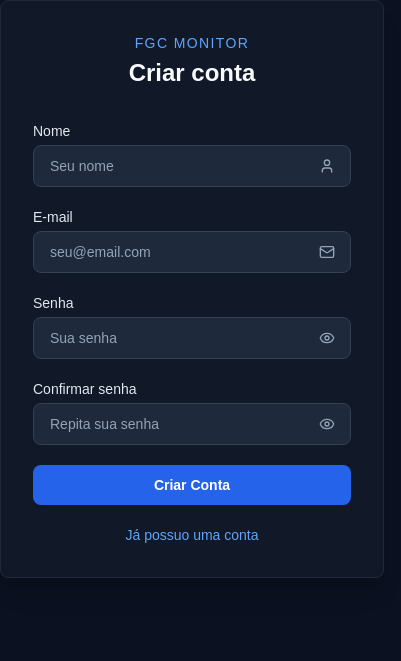
Test: REgister › retorna uma mensagem genérica quando não existe mensagem retornada pela API
The width and height of the screenshot is (401, 661).
Type "Fulano da Silva" into the field labelled "Nome" at (192, 166), box [33,145,351,187]
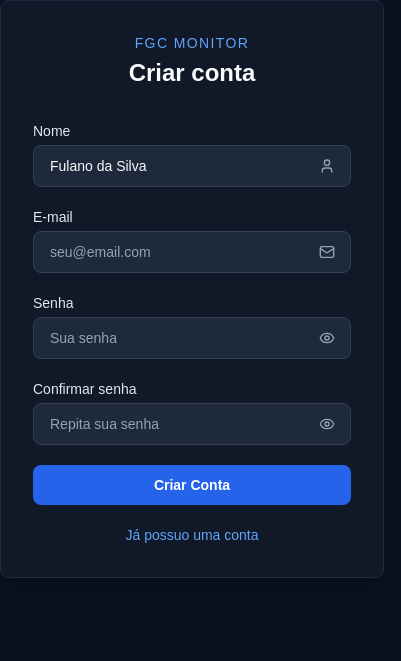
Type "fulano@example.com" into the field labelled "E-mail" at (192, 252), box [33,231,351,273]
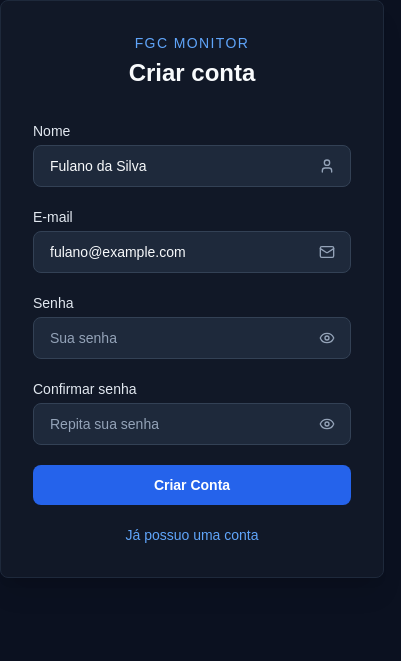
Type "@Senha12" into the password field labelled "Senha" at (192, 338), box [33,317,351,359]
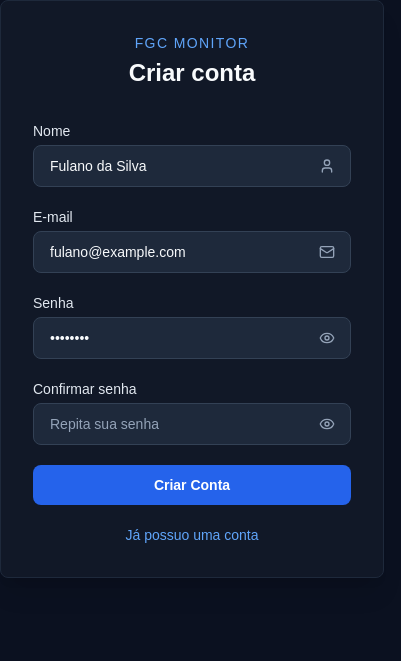
Type "@Senha12" into the password field labelled "Confirmar senha" at (192, 424), box [33,403,351,445]
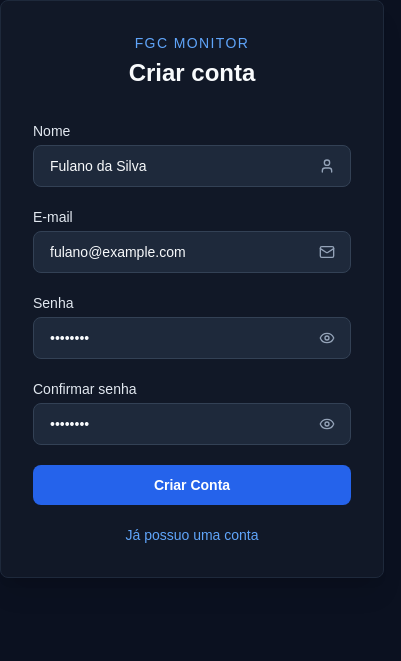
Click the button "Criar Conta" at (192, 485), box [33,465,351,505]
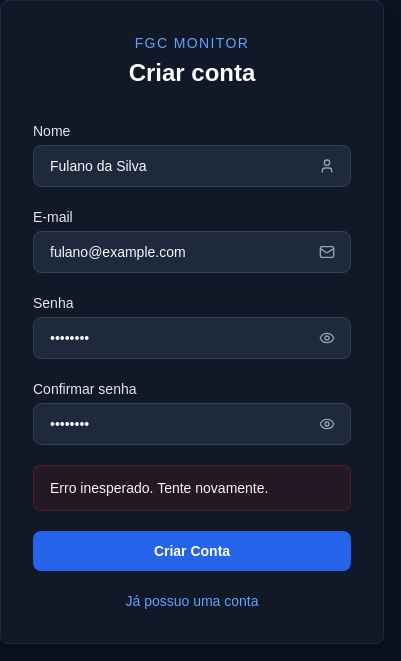
Result: the text "Erro inesperado. Tente novamente." is shown at [33,465,351,511]
